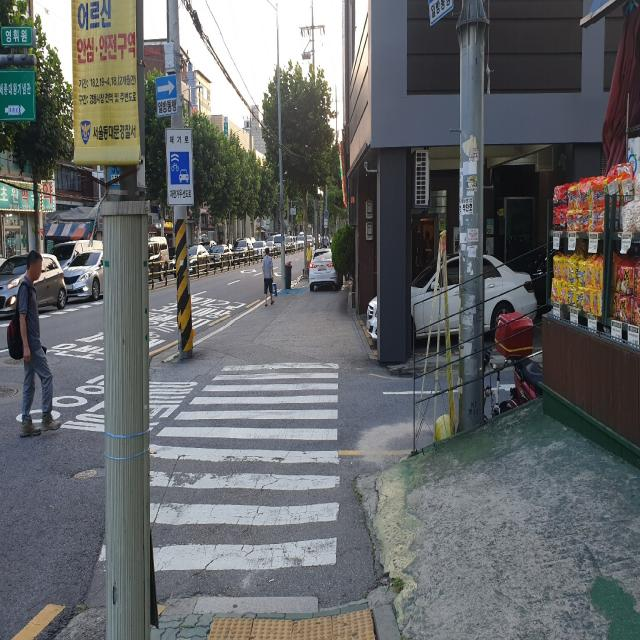횡단보도: (98, 363, 340, 572)
